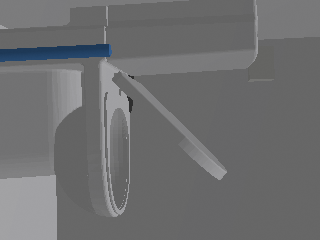lid_1: (113, 72, 226, 180)
